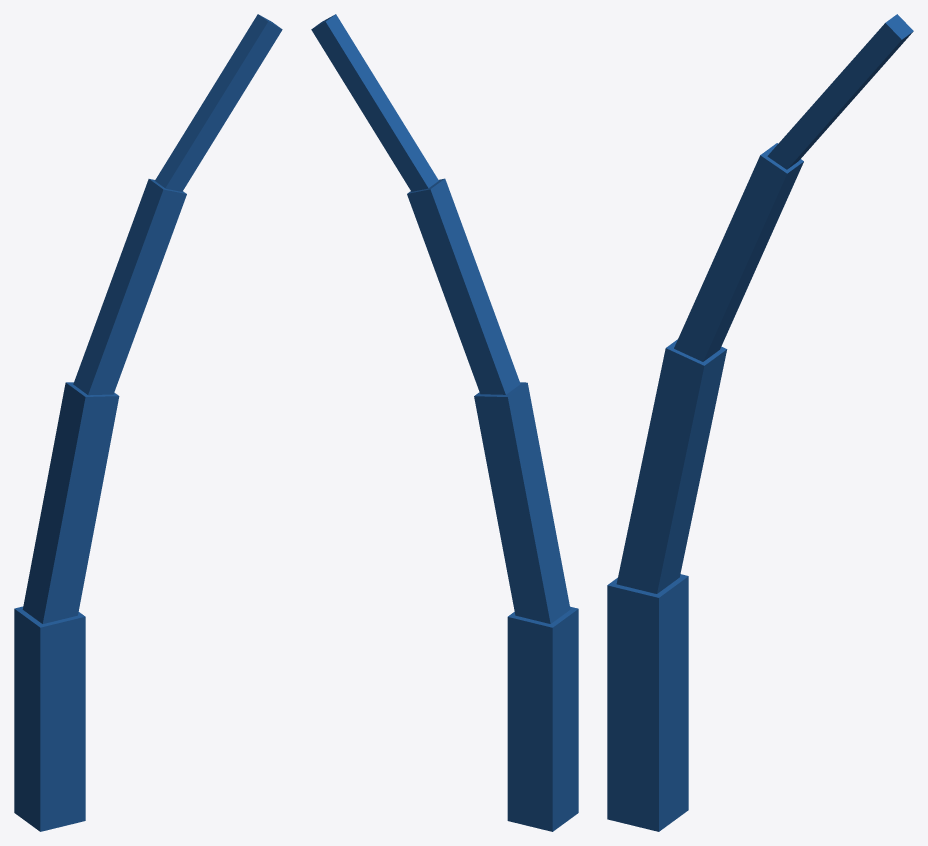
The model's file is Rod.fbx.
3 renders of one model, left to right at view 1: azimuth 30°, elevation 25°; view 2: azimuth 150°, elevation 25°; view 3: azimuth 330°, elevation 25°, orthographic. The views are drawn at different scales.
Visible parts, largest first — view 1: Cube; view 2: Cube; view 3: Cube.
Part boxes in pixels (x1,y1,x2,y2): Cube: [14, 14, 282, 831]; Cube: [311, 14, 578, 831]; Cube: [607, 14, 913, 831].
Size of the model in its own units: 1105 by 3161 by 200.
1 material, 1 textured.
